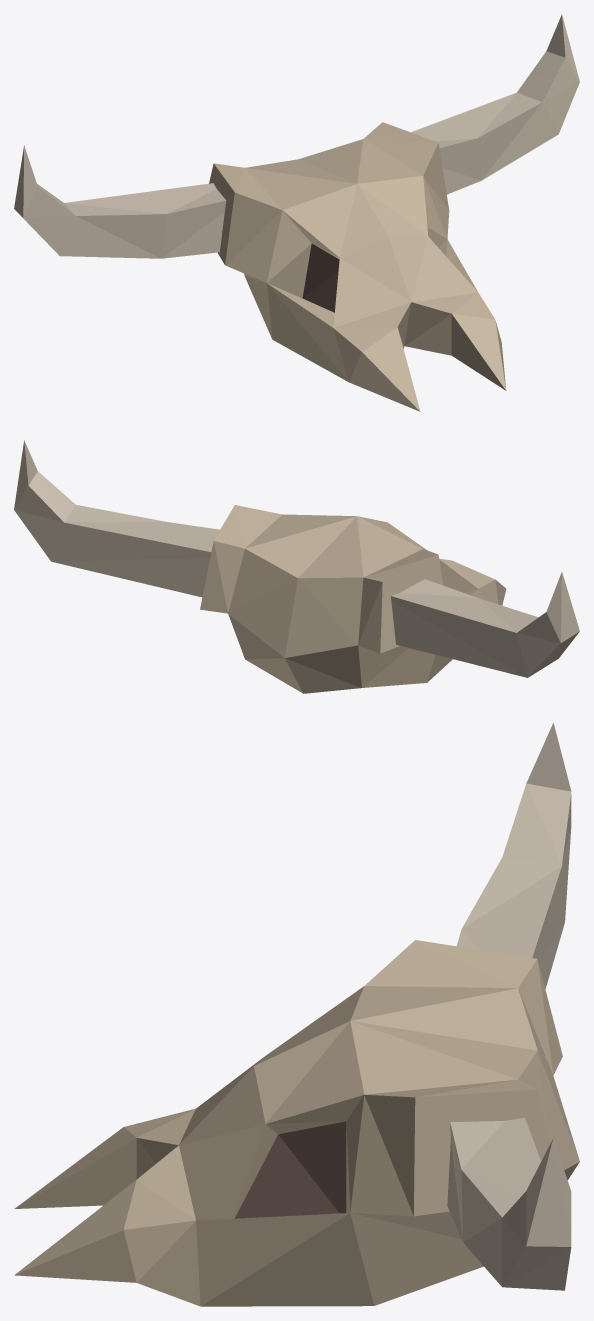
File: prop_cow_bone.glb
The picture shows the model from 3 angles, top to bottom: view 1: azimuth 30°, elevation 25°; view 2: azimuth 150°, elevation 25°; view 3: azimuth 270°, elevation 25°; orthographic projection. The views are drawn at different scales.
Visible parts, largest first — view 1: Props with out snow_Cow_Bone _0; view 2: Props with out snow_Cow_Bone _0; view 3: Props with out snow_Cow_Bone _0.
Part boxes in pixels (x1,y1,x2,y2): Props with out snow_Cow_Bone _0: (14,14,579,411); Props with out snow_Cow_Bone _0: (14,440,579,693); Props with out snow_Cow_Bone _0: (14,722,579,1306).
Size of the model in its own units: 2.17 by 0.7594 by 1.21.
